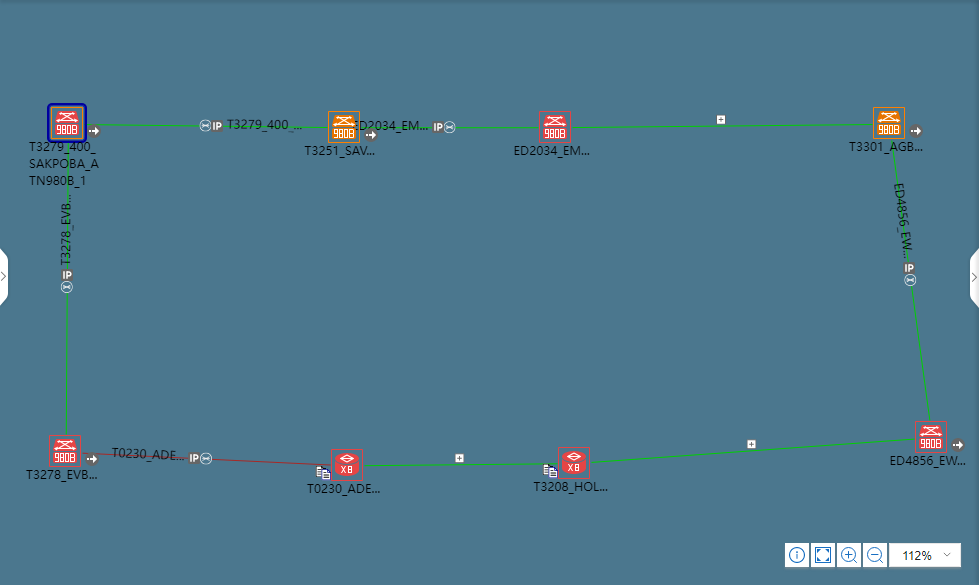ATN_Orange: (872, 106, 907, 141), (333, 112, 363, 140)
ATN_Red: (52, 436, 81, 471), (915, 424, 950, 452), (52, 112, 81, 141), (542, 112, 569, 140)
Link_Green: (890, 143, 930, 418), (590, 436, 910, 464), (358, 124, 537, 135), (64, 143, 75, 320), (572, 124, 644, 135), (283, 124, 326, 135)
Link_Red: (83, 449, 332, 471)
Router_Red: (333, 449, 363, 484), (560, 449, 587, 476)
